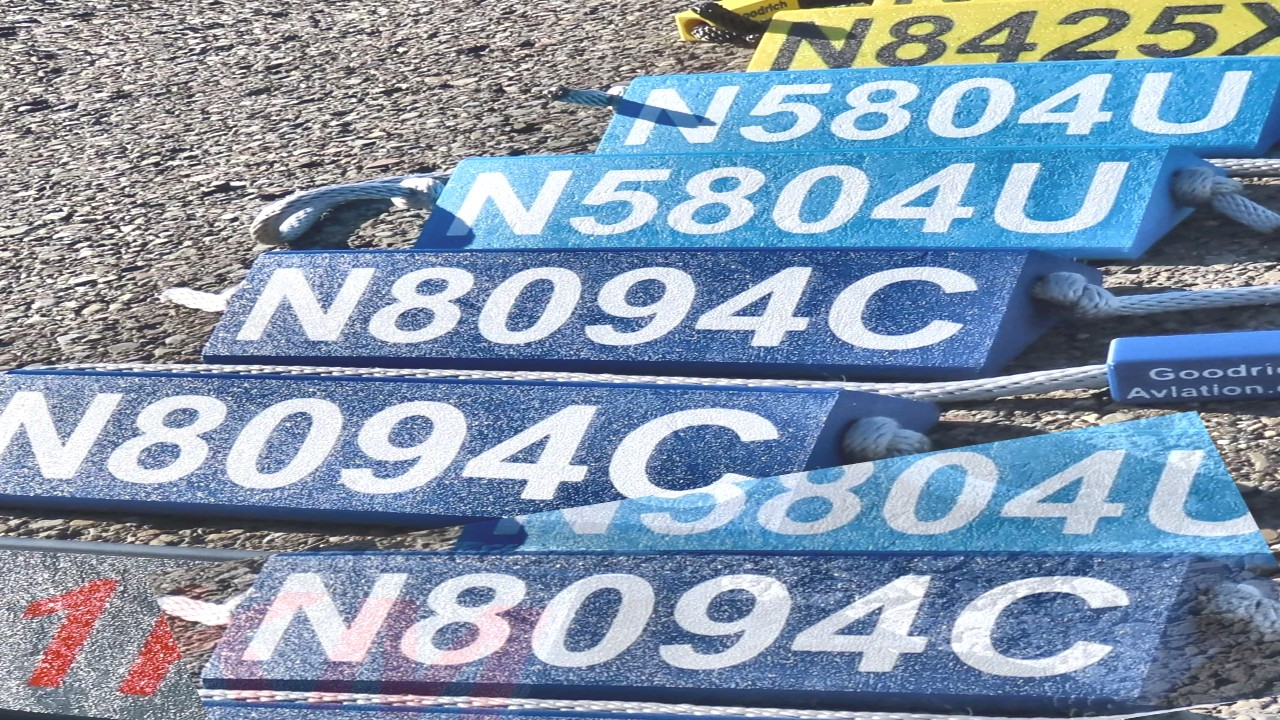chock: (0, 230, 1005, 674), (149, 129, 1159, 496), (137, 409, 1280, 720), (374, 46, 1271, 369), (0, 398, 797, 720), (552, 0, 1280, 255), (693, 0, 1280, 160), (816, 0, 1280, 56)
